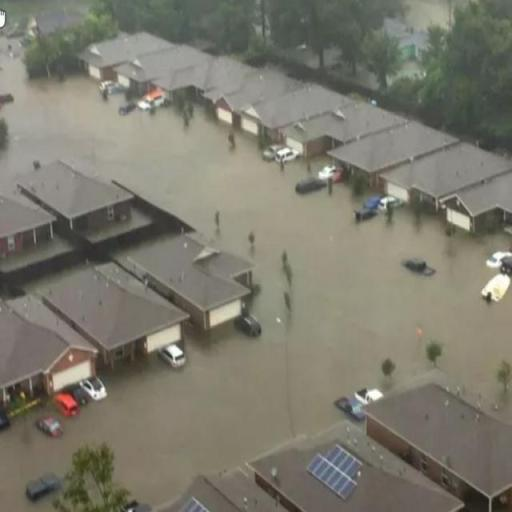flood: (0, 54, 512, 512)
house: (7, 258, 205, 372), (244, 417, 462, 512), (362, 378, 512, 508), (111, 231, 255, 332), (0, 298, 100, 419), (403, 136, 512, 232), (18, 158, 138, 235), (321, 122, 461, 178), (166, 463, 296, 512), (2, 180, 56, 278), (76, 31, 176, 68), (279, 125, 321, 158), (116, 60, 151, 96), (240, 104, 268, 143), (214, 94, 236, 126)
